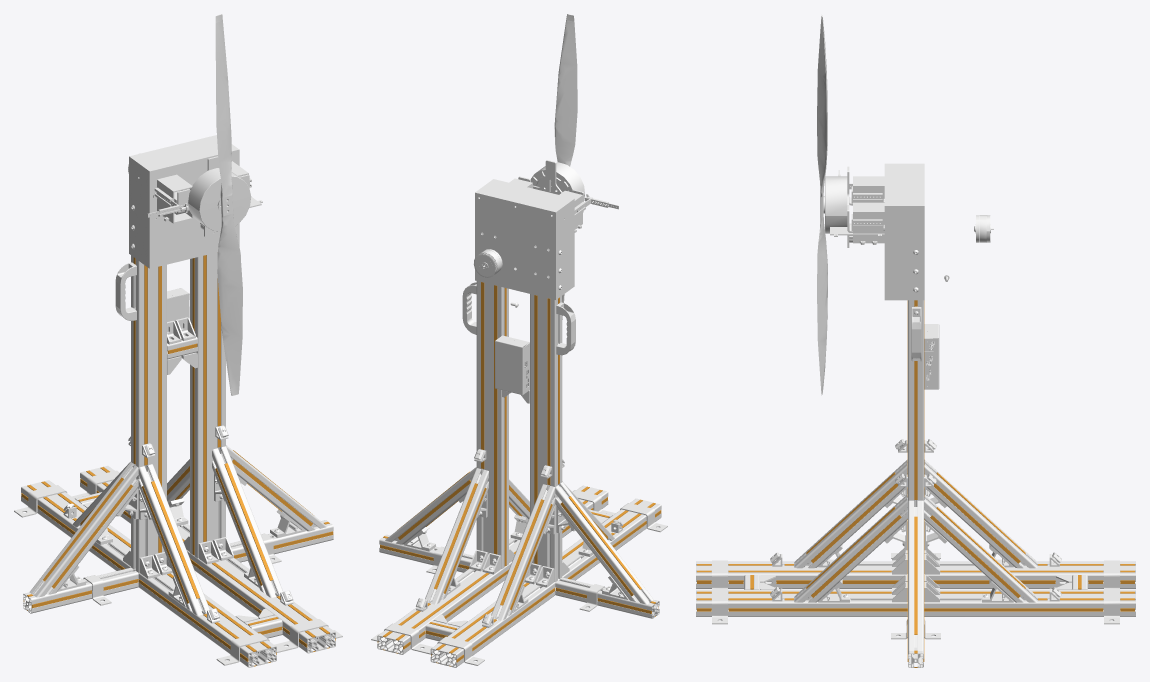
Rendered from rts-pro-20.glb.
The picture shows the model from 3 angles, left to right: view 1: azimuth 30°, elevation 25°; view 2: azimuth 150°, elevation 25°; view 3: azimuth 270°, elevation 25°; orthographic projection. The views are drawn at different scales.
Parts seen in each view (by area): view 1: p2, p1, p0, p792, p3, p898, p794, p812, p811, p813, p918, p895 (+19 smaller); view 2: p793, p1, p2, p0, p3, p897, p792, p812, p918, p814, p815, p747 (+19 smaller); view 3: p3, p0, p792, p916, p2, p813, p815, p811, p814, p819, p915, p794 (+12 smaller).
Part boxes in pixels (x1,y1,x2,y2): p2: [190, 252, 225, 558]; p1: [131, 255, 166, 572]; p0: [21, 480, 276, 667]; p792: [129, 135, 239, 228]; p3: [80, 465, 335, 653]; p898: [217, 213, 242, 395]; p794: [129, 214, 239, 268]; p812: [29, 462, 138, 597]; p811: [138, 464, 209, 615]; p813: [212, 446, 283, 597]; p918: [192, 255, 220, 555]; p895: [188, 168, 251, 231]; p793: [475, 192, 556, 299]; p1: [530, 245, 562, 581]; p2: [476, 232, 508, 569]; p0: [430, 498, 661, 667]; p3: [377, 485, 608, 654]; p897: [554, 14, 577, 166]; p792: [475, 179, 574, 263]; p812: [555, 482, 653, 604]; p918: [481, 282, 506, 566]; p814: [491, 484, 555, 620]; p815: [425, 468, 488, 604]; p747: [495, 335, 529, 394]; p3: [696, 589, 1135, 616]; p0: [696, 561, 1135, 588]; p792: [884, 163, 923, 261]; p916: [697, 591, 1134, 611]; p2: [908, 300, 923, 506]; p813: [794, 494, 907, 602]; p815: [924, 494, 1037, 602]; p811: [794, 459, 907, 568]; p814: [924, 459, 1037, 568]; p819: [908, 500, 923, 650]; p915: [697, 564, 1134, 583]; p794: [884, 261, 923, 300].
Size of the model in its own units: 845 by 1594 by 1100.
